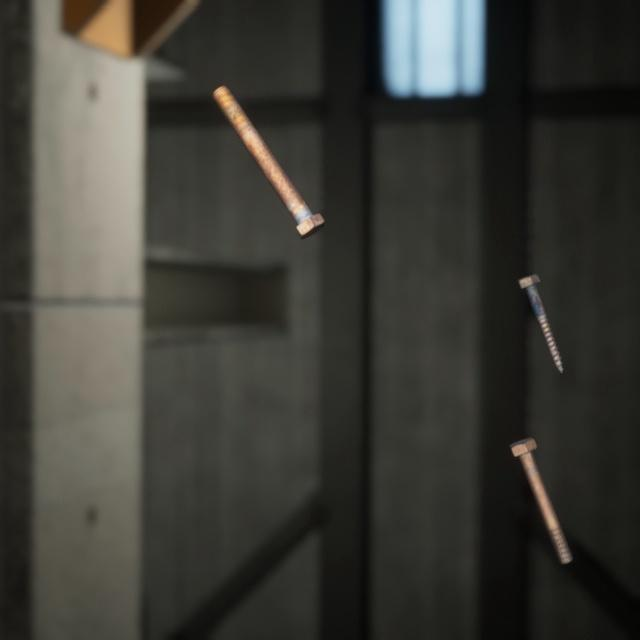bolt: (208, 67, 329, 229), (503, 411, 577, 547), (511, 251, 568, 359)
